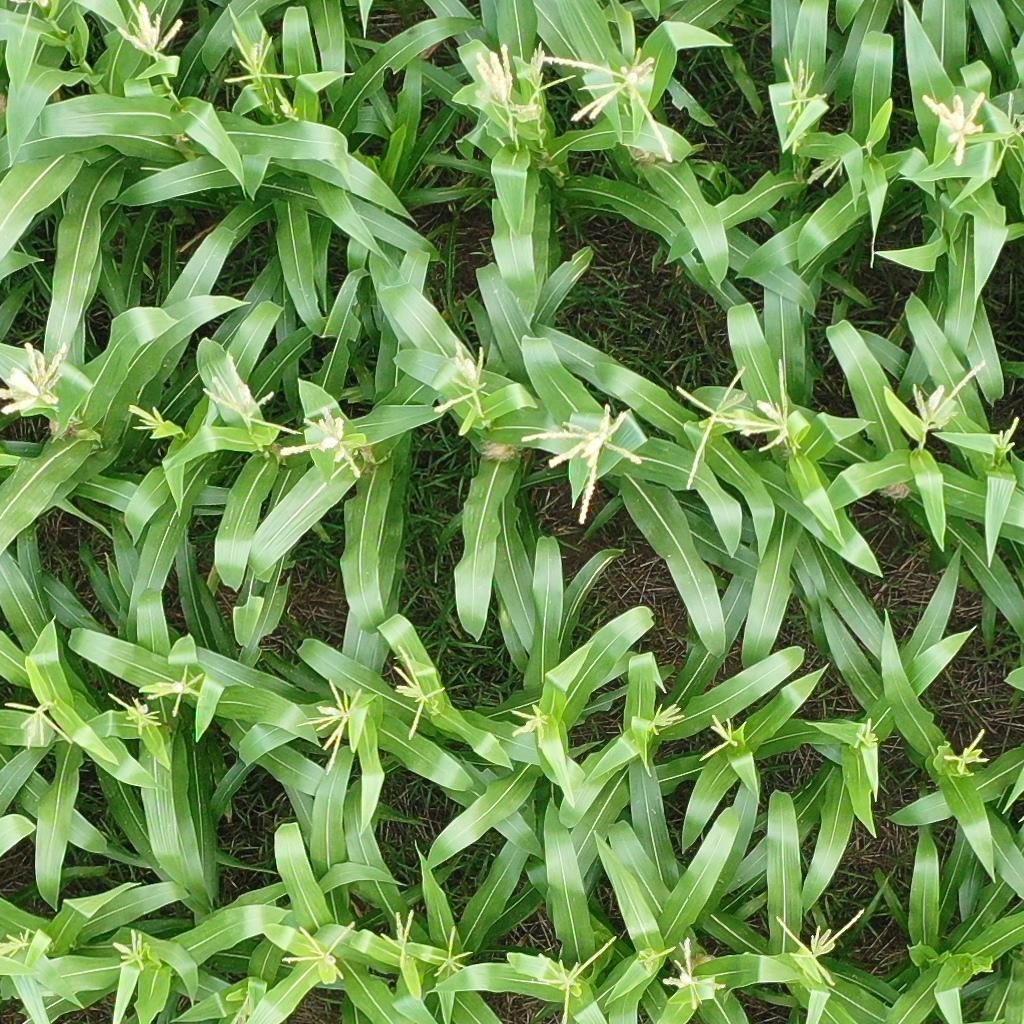Tassel: (519, 401, 645, 529), (544, 54, 679, 165), (667, 365, 754, 491), (468, 43, 544, 146), (772, 904, 868, 985), (528, 936, 615, 1024), (294, 678, 367, 774), (736, 359, 807, 454), (277, 402, 366, 475), (198, 374, 299, 435), (907, 359, 986, 433), (387, 644, 447, 741), (430, 340, 498, 424), (1, 342, 71, 421), (918, 86, 985, 166), (661, 937, 728, 1011), (279, 920, 356, 983), (110, 1, 187, 58), (223, 28, 294, 84), (514, 42, 577, 104), (2, 699, 73, 751), (775, 54, 830, 120), (146, 666, 206, 720), (991, 91, 1024, 178), (106, 688, 163, 734), (941, 728, 992, 774), (428, 925, 472, 978), (697, 711, 740, 764), (379, 908, 416, 959), (508, 706, 554, 747), (803, 152, 851, 191), (111, 927, 151, 972), (126, 399, 169, 434), (635, 941, 677, 973), (650, 702, 686, 738), (991, 415, 1019, 458), (1, 928, 32, 958), (274, 86, 300, 119), (856, 717, 881, 748), (231, 994, 248, 1024)
